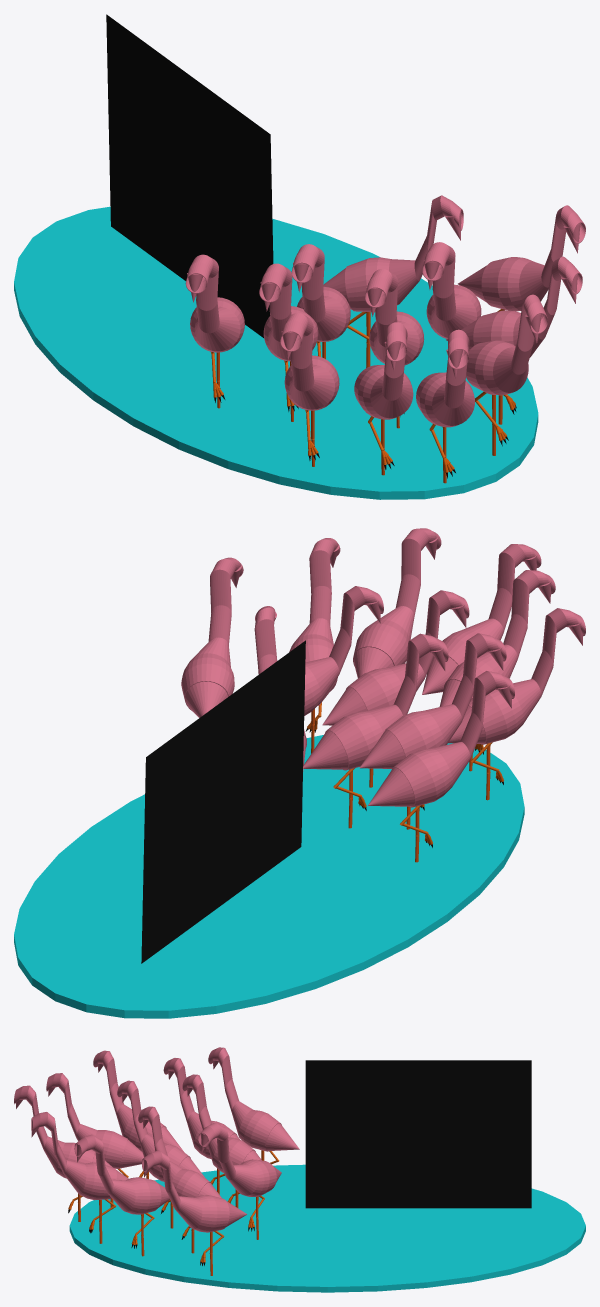
Rendered from float13.fbx.
The picture shows the model from 3 angles, top to bottom: view 1: azimuth 30°, elevation 25°; view 2: azimuth 150°, elevation 25°; view 3: azimuth 270°, elevation 25°; orthographic projection. The views are drawn at different scales.
Parts seen in each view (by area): view 1: Cylinder; view 2: Cylinder; view 3: Cylinder.
Boxes of the visible parts, <box> form: Cylinder: <box>14,14,585,499</box>; Cylinder: <box>14,528,585,1018</box>; Cylinder: <box>14,1047,585,1292</box>.
Bounding box in the file's own units: 742 × 462 × 1462.
